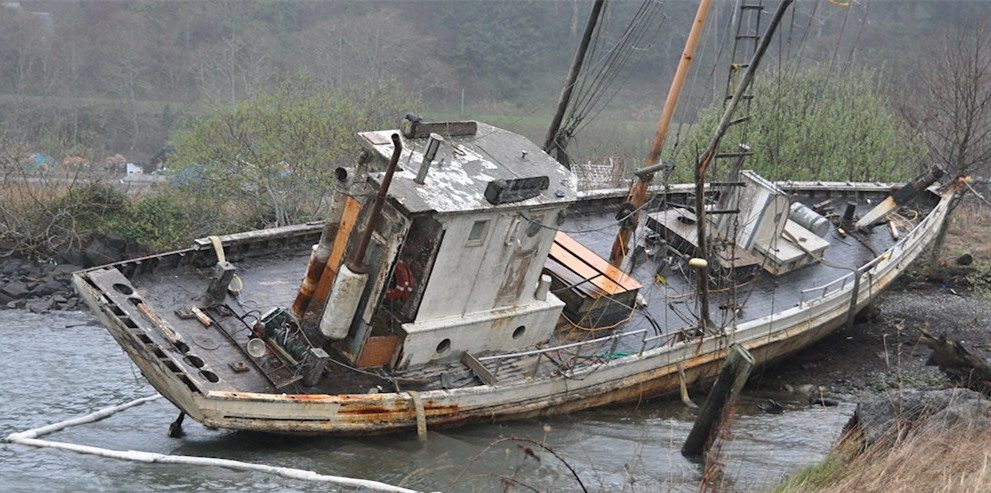boat_cabin: (60, 102, 977, 448)
